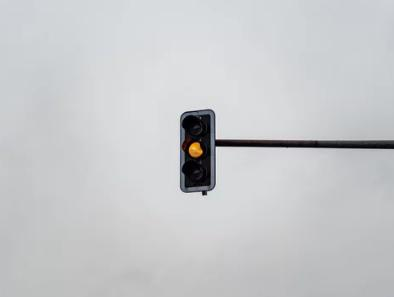yellow_light: (180, 109, 215, 192)
